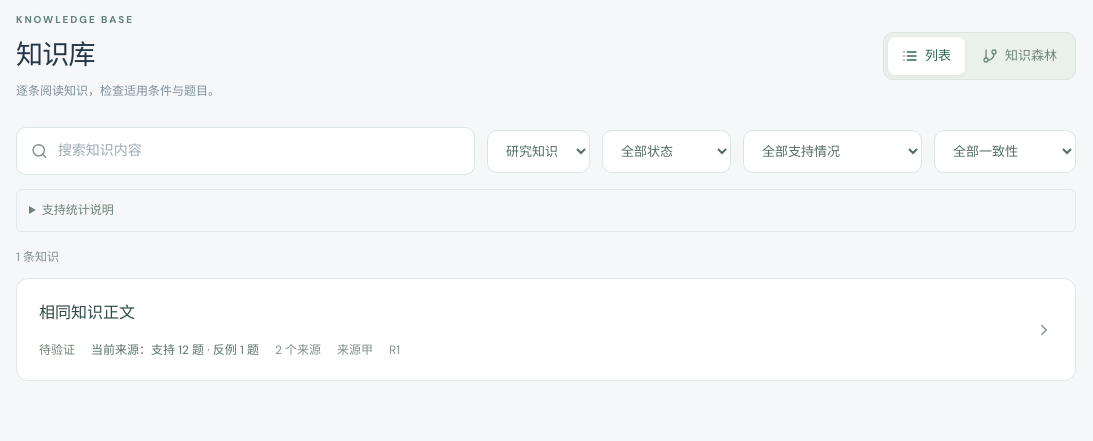
Test: never qualifies duplicate sources by summing their sub-threshold support
Check: the text "1 条知识" is shown, box [16,249,59,265]
Select "高价值 · ≥20 道支持题" in the dropdown named "支持情况": (832, 151) [743,130,922,172]
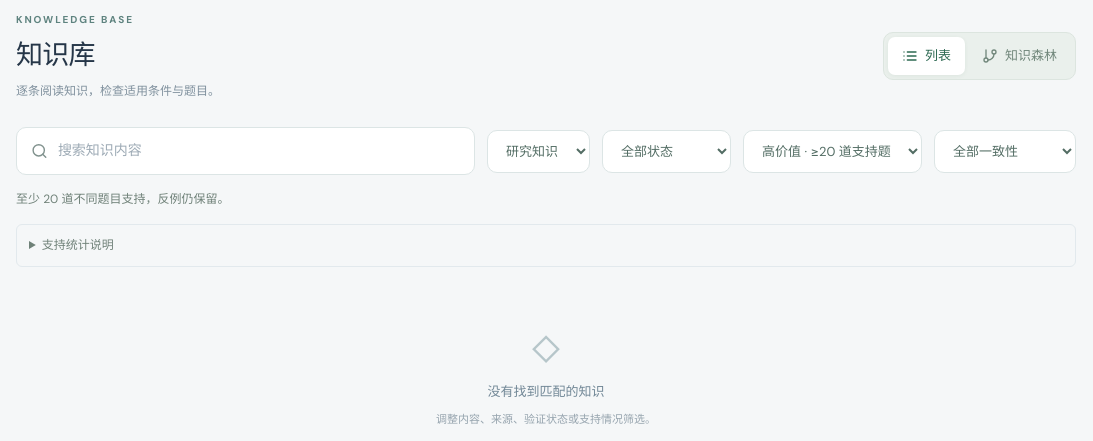
Check: the text "没有找到匹配的知识" is shown, box [488,382,604,402]
